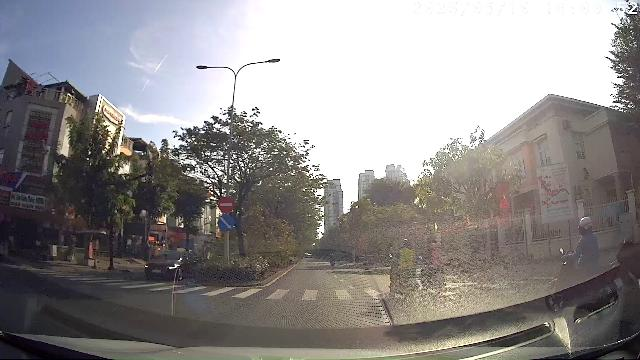102-cam-di-nguoc-chieu: (218, 196, 236, 213)
302a-huong-phai-di-vong-chuong-ngai-vat-1: (218, 215, 235, 231)
